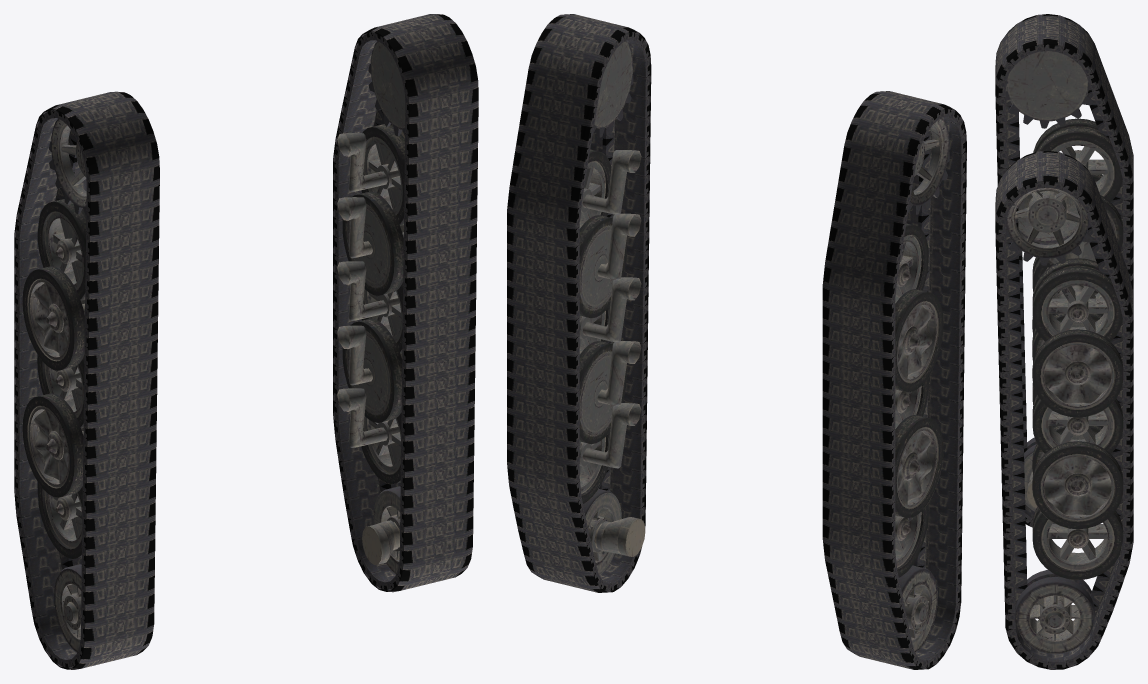
Rendered from Chassis.glb.
3 views of the same model, side by side, from view 1: azimuth 30°, elevation 25°; view 2: azimuth 150°, elevation 25°; view 3: azimuth 270°, elevation 25° (orthographic). The views are drawn at different scales.
Parts seen in each view (by area): view 1: set_0_group_0, set_1_group_0, set_3_group_0, set_2_group_0; view 2: set_0_group_0, set_1_group_0, set_3_group_0, set_2_group_0; view 3: set_3_group_0, set_1_group_0, set_0_group_0, set_2_group_0.
Part boxes in pixels (box(x1,y1,x2,y2)): set_0_group_0: box(14, 91, 159, 669); set_1_group_0: box(333, 14, 478, 592); set_3_group_0: box(337, 41, 405, 573); set_2_group_0: box(22, 119, 86, 652); set_0_group_0: box(822, 91, 966, 669); set_1_group_0: box(507, 14, 651, 592); set_3_group_0: box(579, 41, 645, 575); set_2_group_0: box(895, 118, 949, 652); set_3_group_0: box(1005, 188, 1123, 653); set_1_group_0: box(995, 151, 1133, 669); set_0_group_0: box(995, 14, 1133, 527); set_2_group_0: box(1005, 51, 1123, 511).
Size of the model in its own units: 2.89 by 3.98 by 1.01.
Materials: 4 (4 with a texture image).
